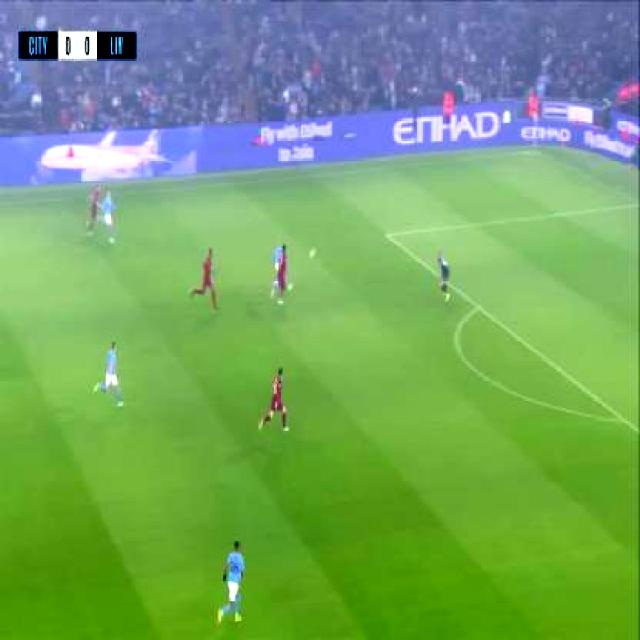bigarea_top_inner: (381, 223, 397, 248)
bottom_arc_area_intersection: (614, 406, 631, 434)
corner: (526, 140, 545, 162)
top_arc_area_intersection: (470, 295, 488, 320)
